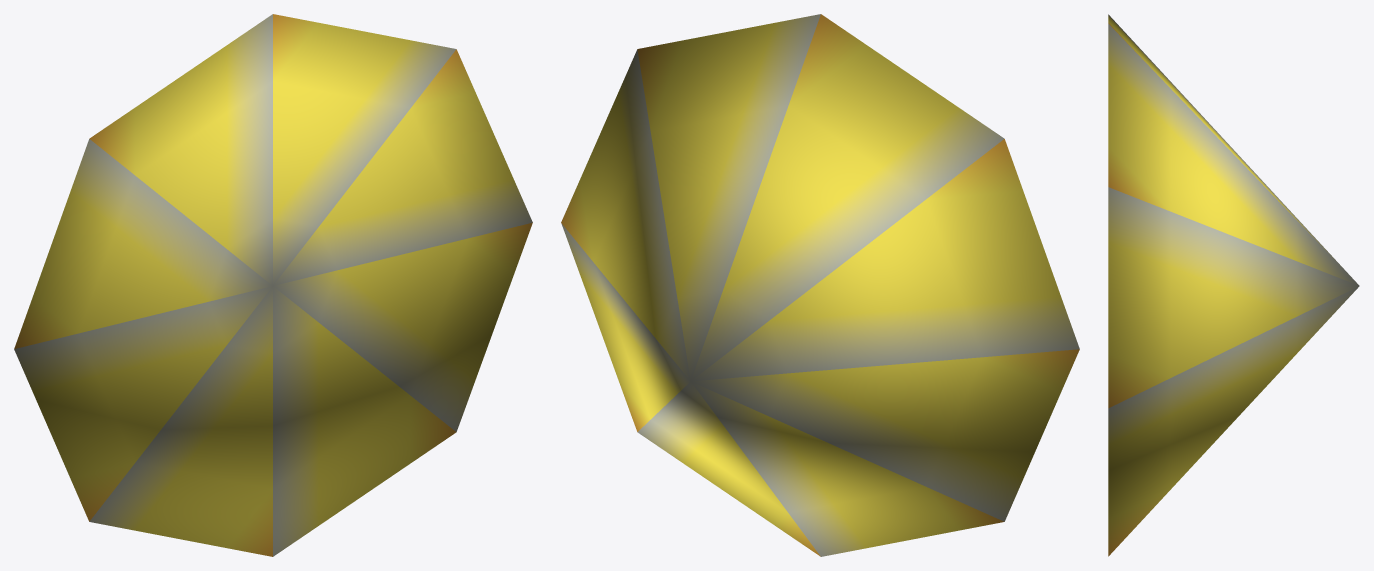
3 renders of one model, left to right at view 1: azimuth 30°, elevation 25°; view 2: azimuth 150°, elevation 25°; view 3: azimuth 270°, elevation 25°, orthographic. The views are drawn at different scales.
Parts seen in each view (by area): view 1: T1L4M003_3; view 2: T1L4M003_3; view 3: T1L4M003_3.
Part boxes in pixels (x1,y1,x2,y2): T1L4M003_3: (14,14,532,556); T1L4M003_3: (561,14,1079,556); T1L4M003_3: (1108,14,1359,556).
Bounding box in the file's own units: 0.458 × 0.458 × 0.1992.
